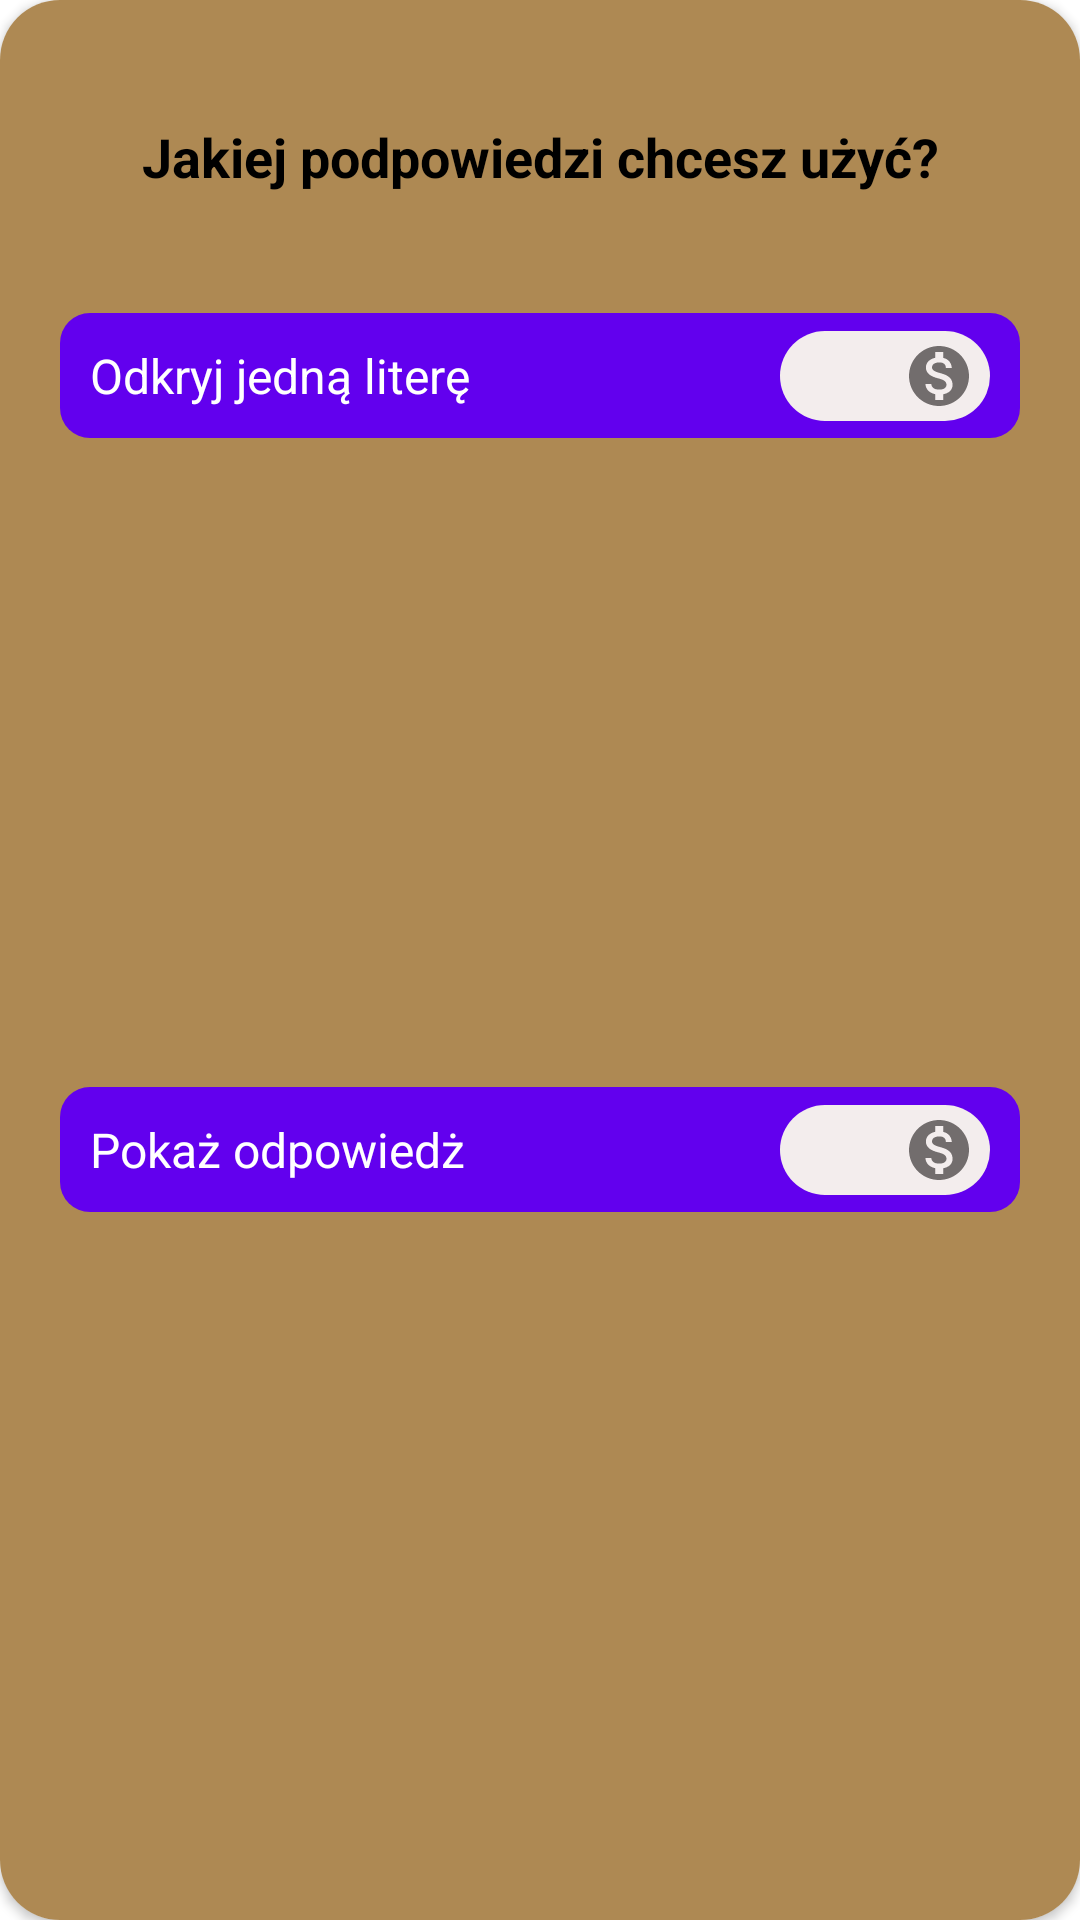

Icon bounding boxes for this 1080 × 1920 phone screenshot, format (x1, y1, x2, y2):
Ikona monety: (909, 346, 969, 406), (909, 1120, 969, 1180)
